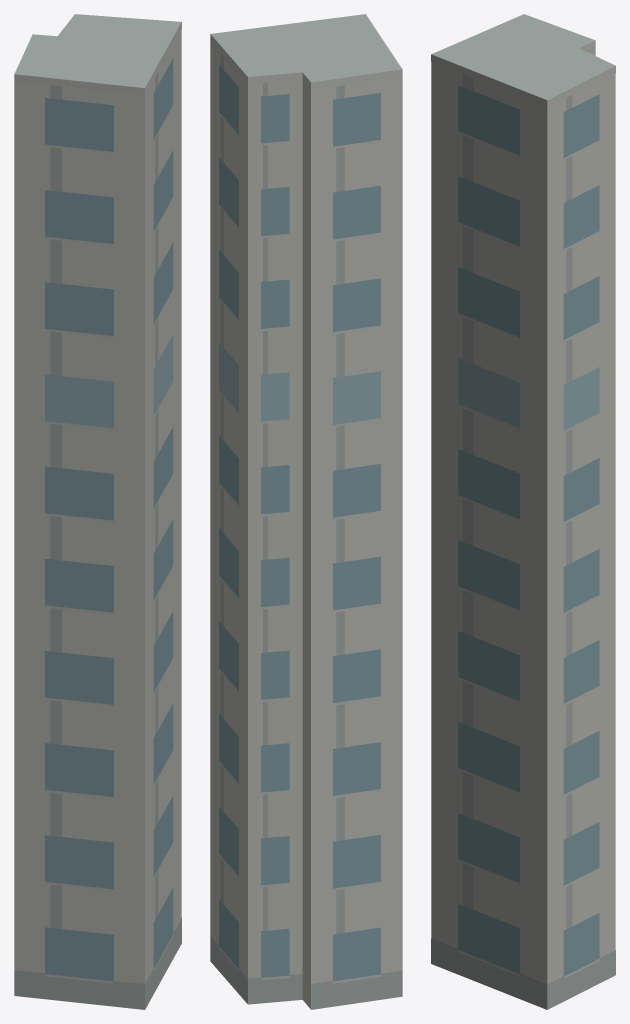
The model's file is survey-upis-32564904.glb.
3 views of the same model, side by side, from view 1: azimuth 30°, elevation 25°; view 2: azimuth 150°, elevation 25°; view 3: azimuth 270°, elevation 25° (orthographic).
Visible parts, largest first — view 1: survey-upis-32564904.tmp; view 2: survey-upis-32564904.tmp; view 3: survey-upis-32564904.tmp.
Boxes of the visible parts, x1,y1,x2,y2 form: survey-upis-32564904.tmp: [14, 14, 181, 1009]; survey-upis-32564904.tmp: [210, 14, 402, 1009]; survey-upis-32564904.tmp: [431, 14, 615, 1009].
Size of the model in its own units: 6.21 by 30.5 by 5.61.
